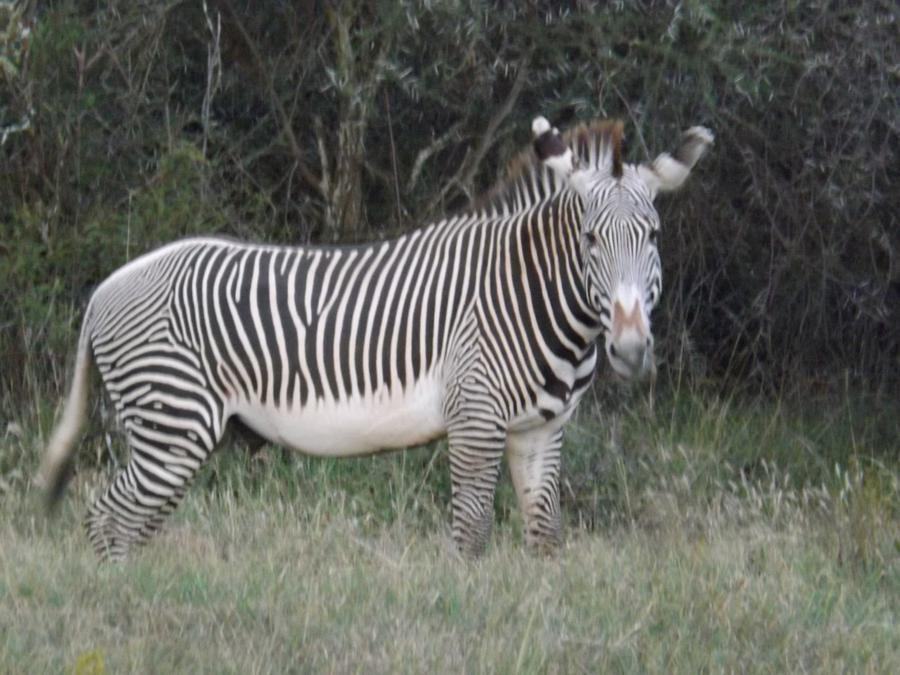zebra_grevys: (97, 228, 536, 419)
